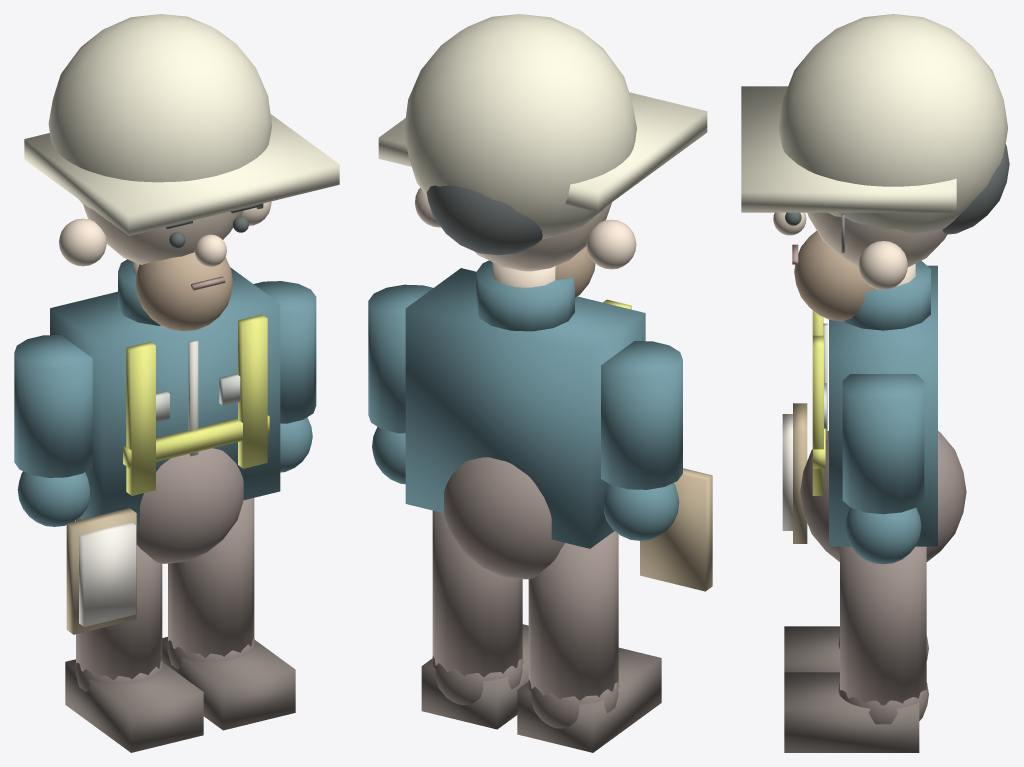
Rendered from mercy_person_22.glb.
3 views of the same model, side by side, from view 1: azimuth 30°, elevation 25°; view 2: azimuth 150°, elevation 25°; view 3: azimuth 270°, elevation 25° (orthographic). The views are drawn at different scales.
Parts seen in each view (by area): view 1: SkinClothing_10, SkinClothing_0, Arm_Left, SkinClothing_5, Leg_Right, SkinClothing_1, Boot_Left, Boot_Right, Leg_Left, SkinClothing_2, Arm_Right, SkinClothing_9 (+4 smaller); view 2: SkinClothing_0, SkinClothing_10, Leg_Left, Arm_Left, Leg_Right, SkinClothing_1, Arm_Right, Boot_Left, SkinClothing_2, SkinClothing_12, SkinClothing_7, Boot_Right (+1 smaller); view 3: SkinClothing_10, Arm_Right, SkinClothing_0, Leg_Right, Boot_Right, SkinClothing_2, SkinClothing_1, SkinClothing_9, Boot_Left, SkinClothing_5, SkinClothing_12, SkinClothing_7 (+1 smaller).
Boxes of the visible parts, x1=… form: SkinClothing_10: x1=24, y1=14, x2=339, y2=235; SkinClothing_0: x1=50, y1=259, x2=280, y2=526; Arm_Left: x1=14, y1=335, x2=92, y2=526; SkinClothing_5: x1=123, y1=314, x2=269, y2=495; Leg_Right: x1=167, y1=498, x2=254, y2=669; SkinClothing_1: x1=136, y1=448, x2=243, y2=563; Boot_Left: x1=65, y1=659, x2=203, y2=752; Boot_Right: x1=162, y1=637, x2=295, y2=730; Leg_Left: x1=75, y1=517, x2=162, y2=692; SkinClothing_2: x1=59, y1=201, x2=271, y2=275; Arm_Right: x1=253, y1=281, x2=316, y2=472; SkinClothing_9: x1=135, y1=252, x2=232, y2=331; SkinClothing_0: x1=405, y1=260, x2=645, y2=548; SkinClothing_10: x1=378, y1=14, x2=707, y2=239; Leg_Left: x1=528, y1=531, x2=619, y2=728; Arm_Left: x1=601, y1=341, x2=682, y2=540; Leg_Right: x1=432, y1=510, x2=523, y2=705; SkinClothing_1: x1=444, y1=457, x2=564, y2=579; Arm_Right: x1=368, y1=284, x2=432, y2=484; Boot_Left: x1=517, y1=647, x2=661, y2=752; SkinClothing_2: x1=414, y1=187, x2=636, y2=287; SkinClothing_12: x1=640, y1=468, x2=712, y2=591; SkinClothing_7: x1=426, y1=185, x2=542, y2=255; Boot_Right: x1=421, y1=624, x2=528, y2=729; SkinClothing_10: x1=741, y1=14, x2=1007, y2=233; Arm_Right: x1=842, y1=374, x2=924, y2=564; SkinClothing_0: x1=829, y1=260, x2=937, y2=546; Leg_Right: x1=838, y1=546, x2=928, y2=724; Boot_Right: x1=784, y1=672, x2=919, y2=752; SkinClothing_2: x1=773, y1=212, x2=946, y2=289; SkinClothing_1: x1=800, y1=431, x2=966, y2=561; SkinClothing_9: x1=794, y1=231, x2=876, y2=321; Boot_Left: x1=784, y1=626, x2=839, y2=672; SkinClothing_5: x1=812, y1=310, x2=825, y2=495; SkinClothing_12: x1=793, y1=403, x2=807, y2=543; SkinClothing_7: x1=942, y1=144, x2=1009, y2=234.
Bounding box in the file's own units: 1.12 × 2.46 × 0.8697.
